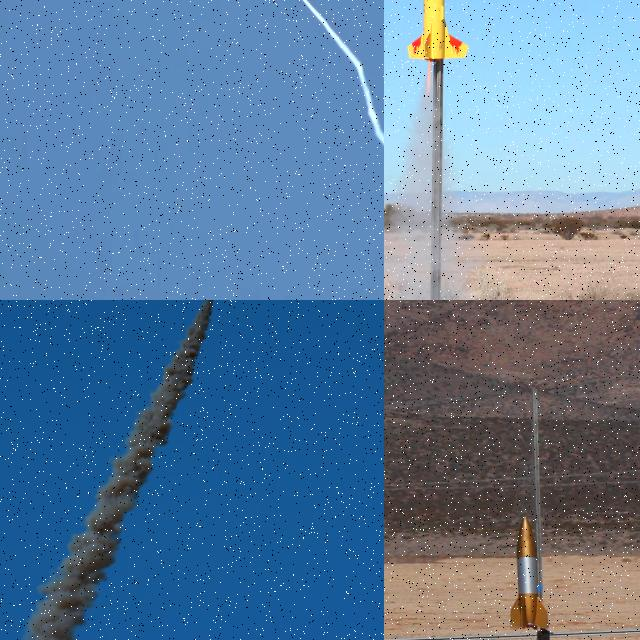Rocket: (507, 514, 549, 632), (406, 0, 470, 61)
